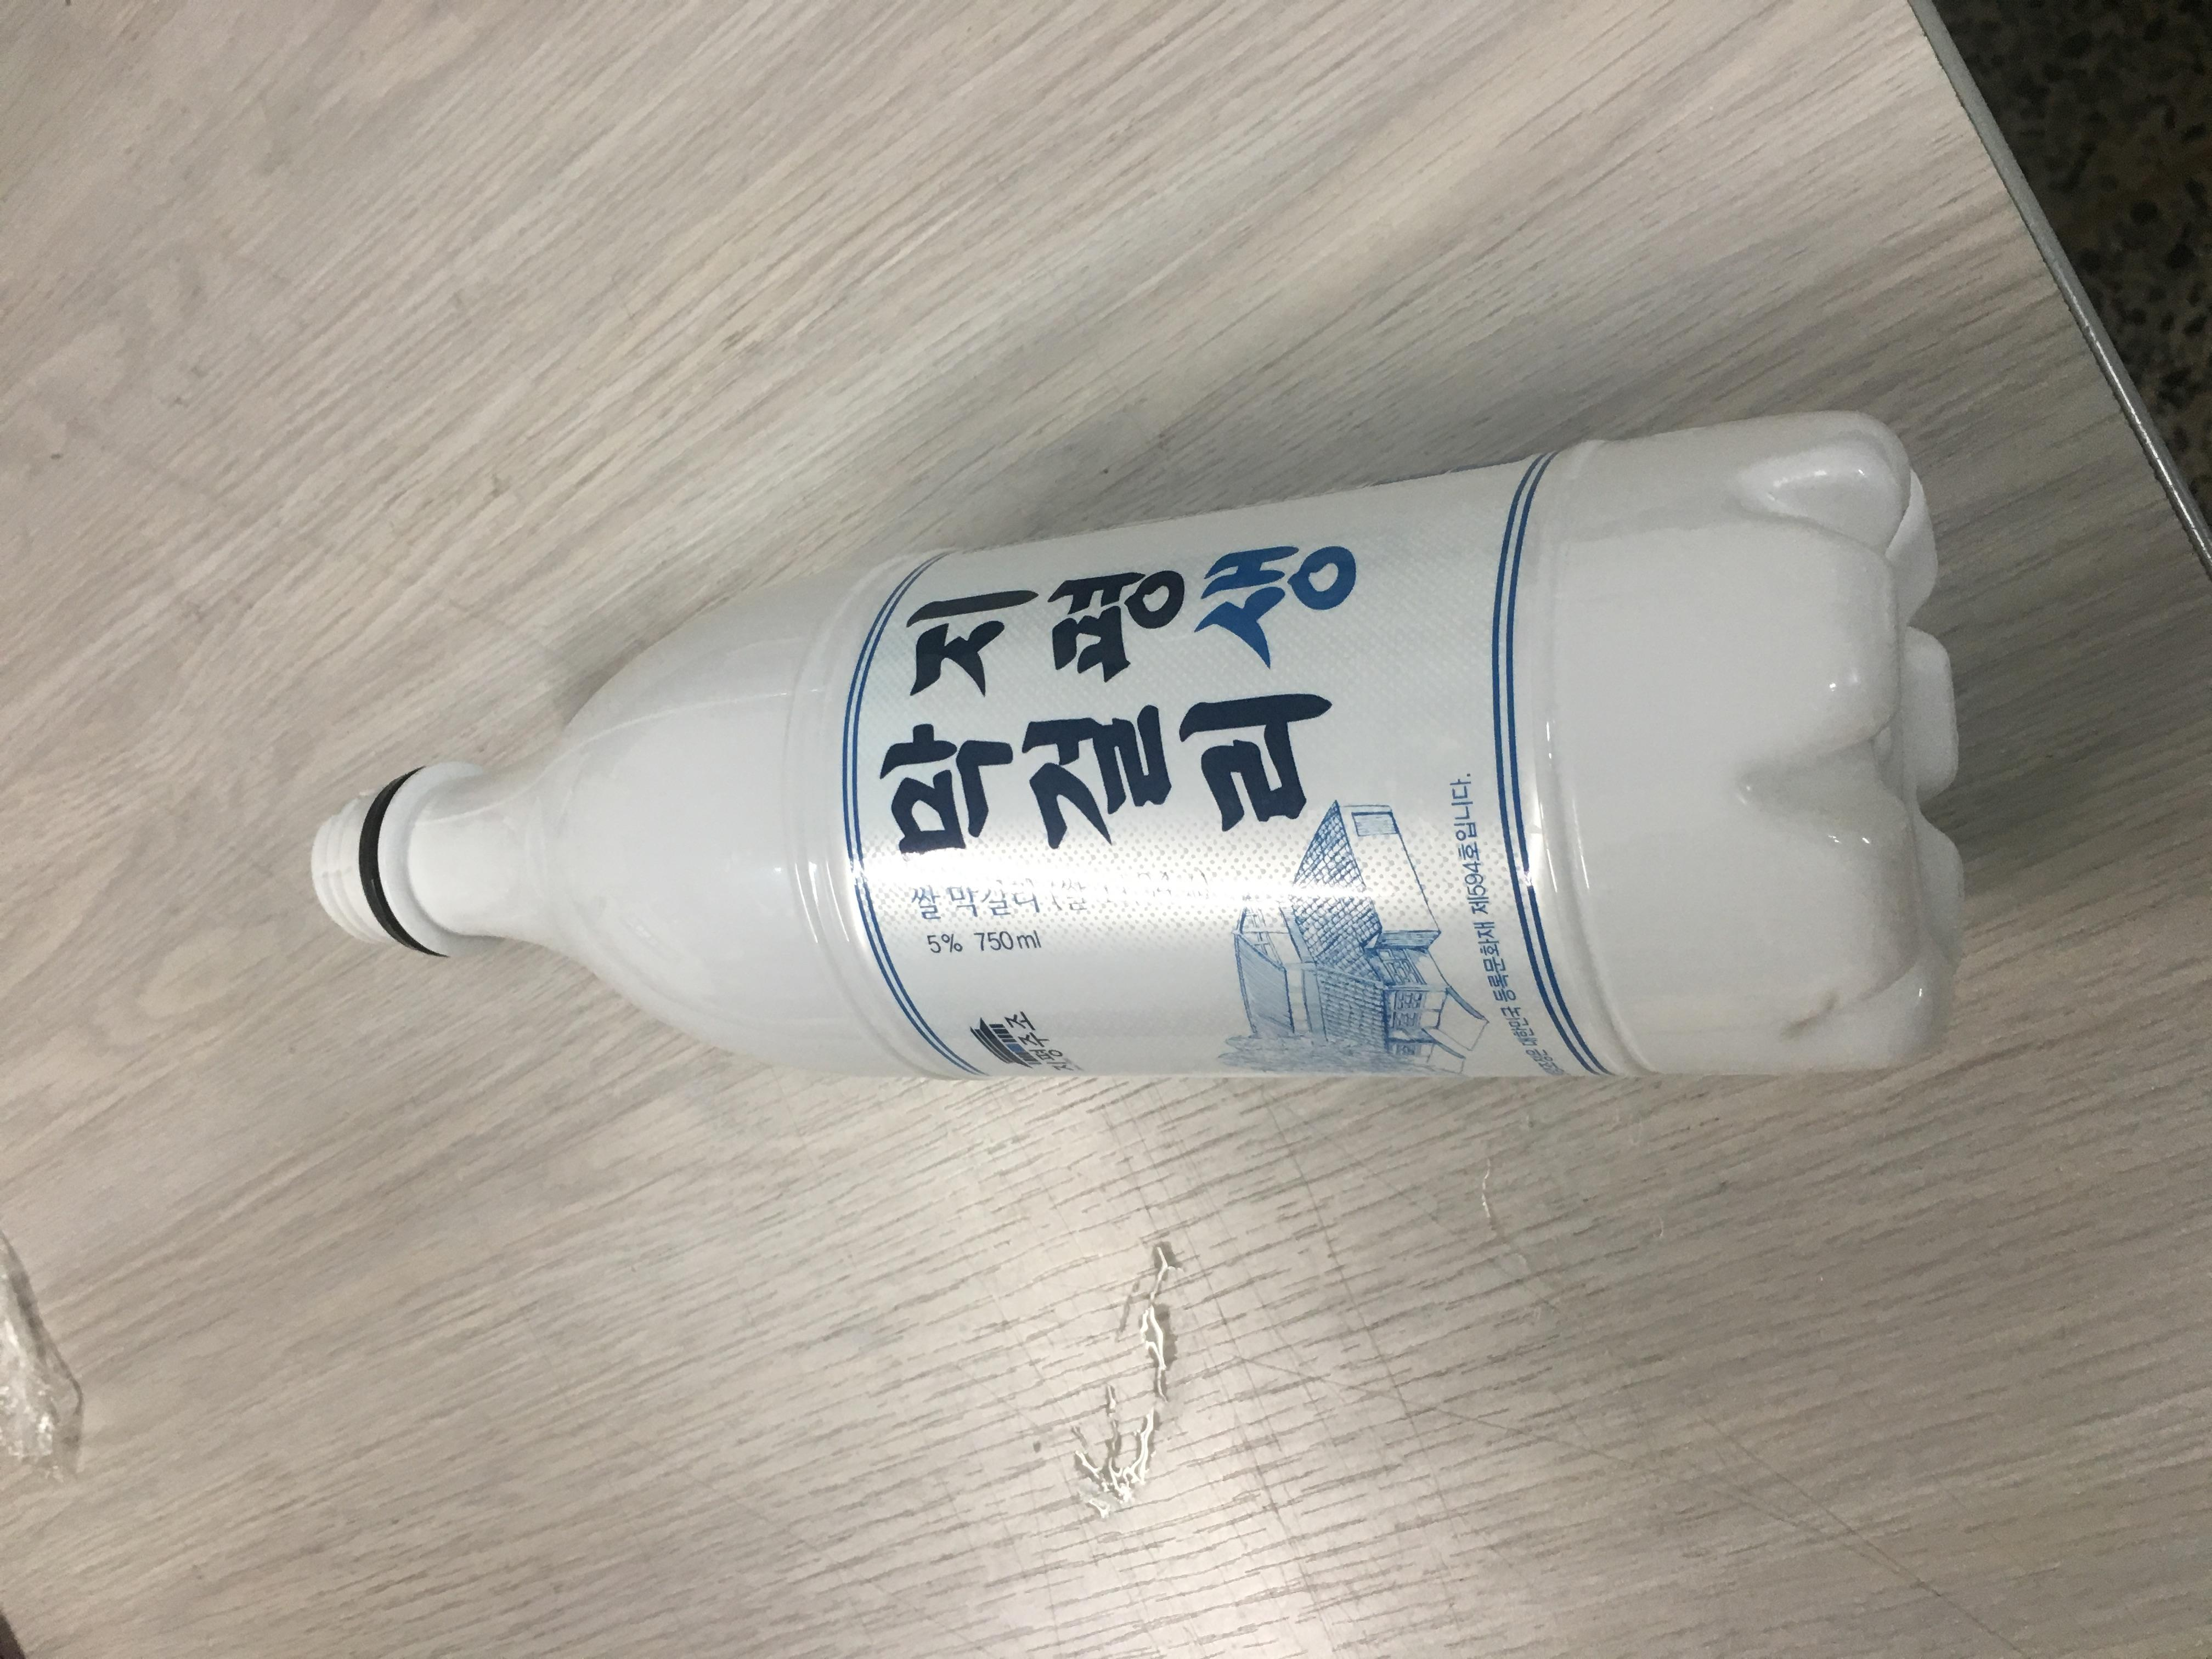plastic_bottle: (327, 403, 1973, 1089)
